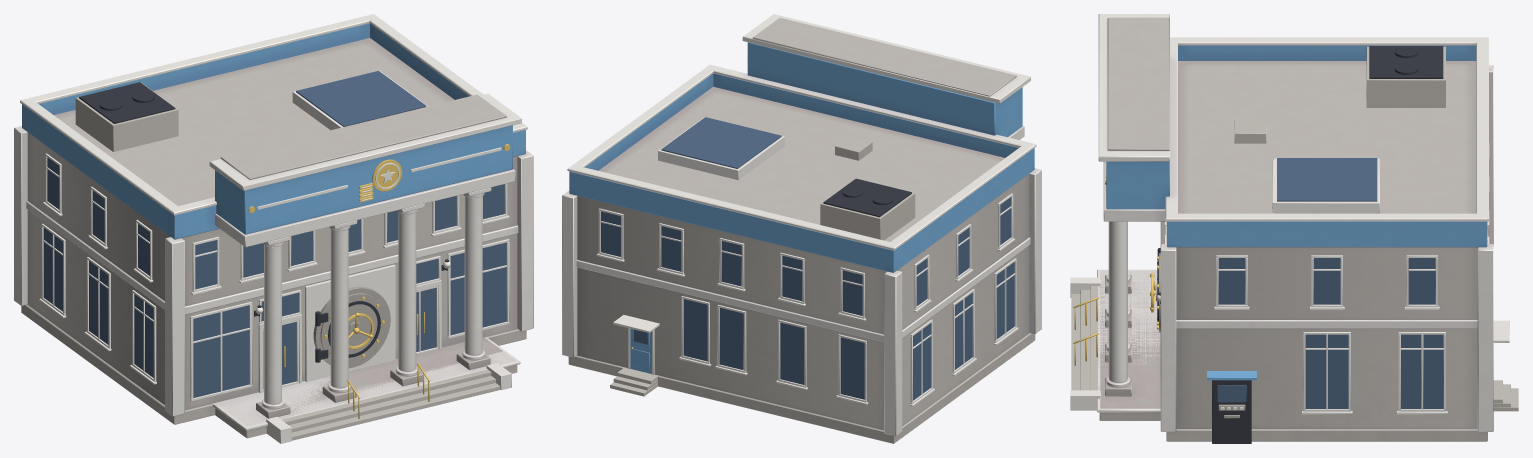
Rendered from bank.glb.
3 views of the same model, side by side, from view 1: azimuth 30°, elevation 25°; view 2: azimuth 150°, elevation 25°; view 3: azimuth 270°, elevation 25° (orthographic). The views are drawn at different scales.
Visible parts, largest first — view 1: bank_body, bank_details, bank_coin_emblem; view 2: bank_body, bank_details; view 3: bank_body, bank_details.
Part boxes in pixels (<box>): bank_body: <box>14,14,533,438</box>; bank_details: <box>39,70,511,443</box>; bank_coin_emblem: <box>248,144,510,213</box>; bank_body: <box>562,14,1041,443</box>; bank_details: <box>596,117,1018,406</box>; bank_body: <box>1097,14,1493,441</box>; bank_details: <box>1070,46,1518,443</box>.
Size of the model in its own units: 16.9 by 11.2 by 16.97.
Materials: 10 (1 with a texture image).
